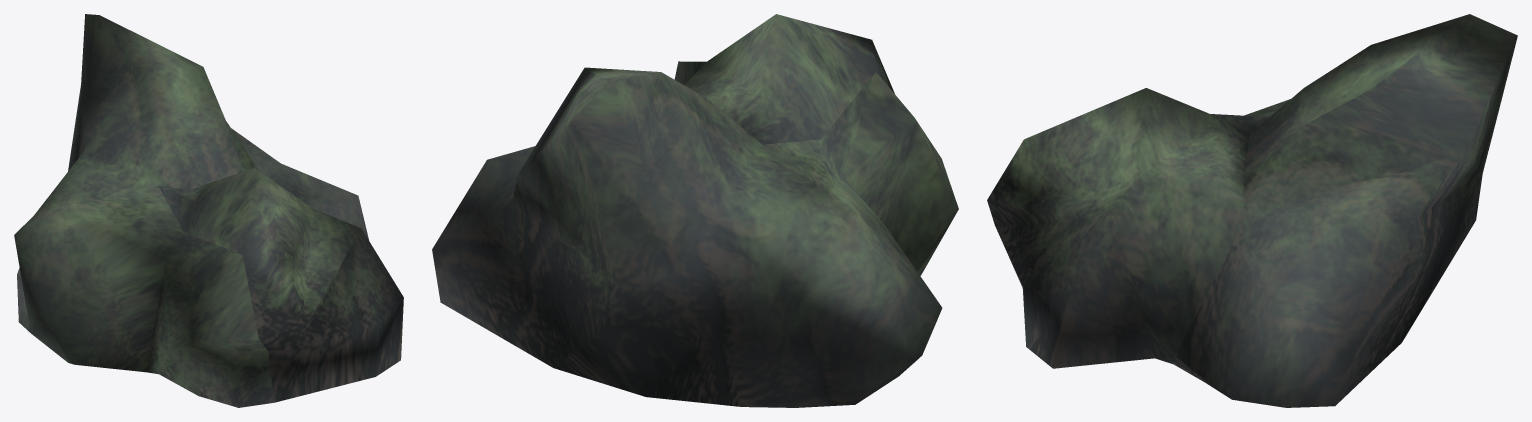
Rendered from M_rock.fbx.
3 renders of one model, left to right at view 1: azimuth 30°, elevation 25°; view 2: azimuth 150°, elevation 25°; view 3: azimuth 270°, elevation 25°, orthographic. The views are drawn at different scales.
Visible parts, largest first — view 1: rock2_low1; view 2: rock2_low1; view 3: rock2_low1.
Part boxes in pixels (x1,y1,x2,y2): rock2_low1: [14, 14, 403, 407]; rock2_low1: [432, 14, 958, 407]; rock2_low1: [987, 14, 1517, 407].
Bounding box in the file's own units: 0.0369 × 0.0268 × 0.0429.
1 material, 1 textured.
